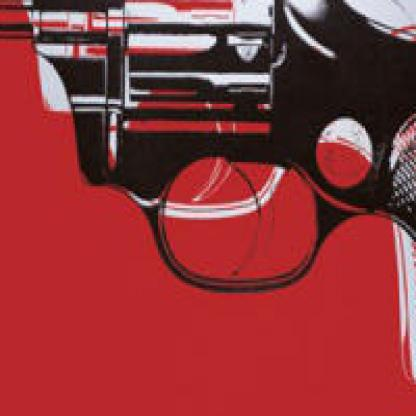gun: (0, 0, 414, 414), (0, 0, 414, 399)
